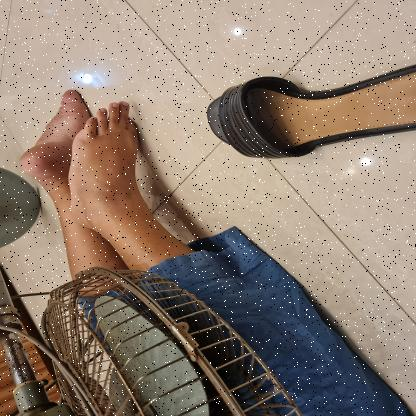leg: (61, 93, 191, 253), (17, 85, 122, 274)
